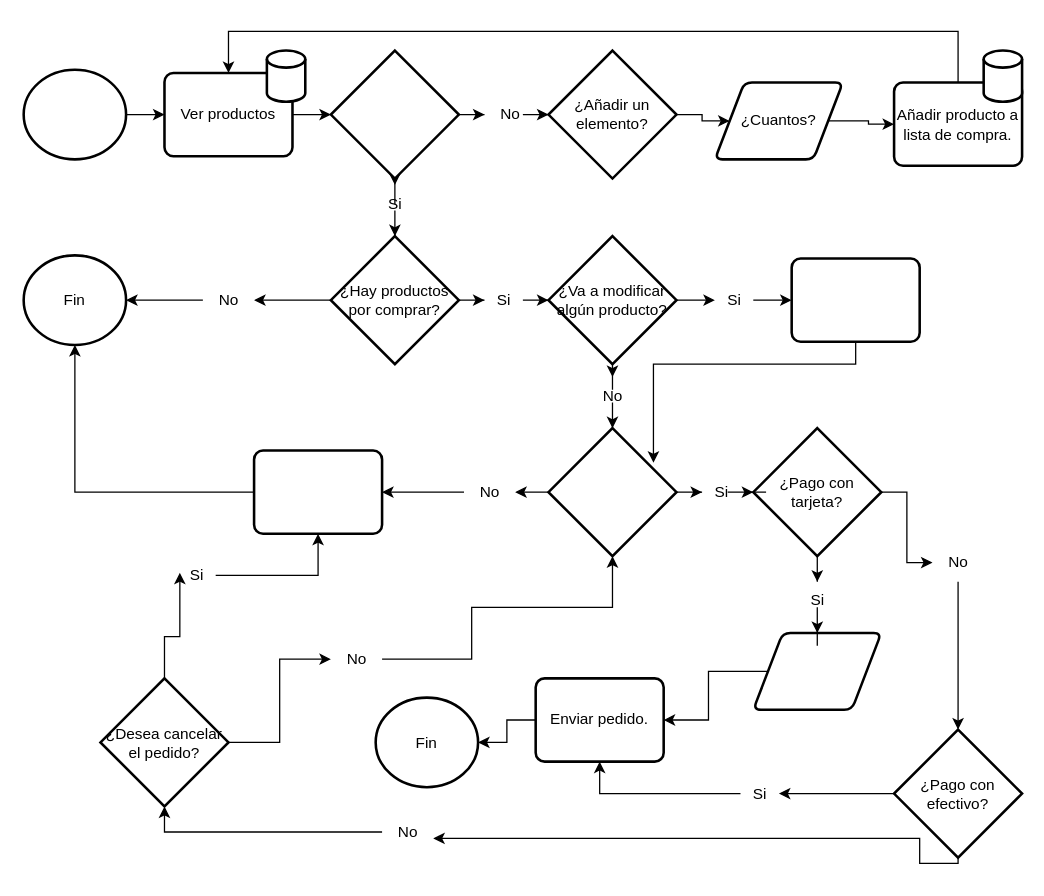
Image size: 1044x896. Some labels were removed from this diagram. The shapes that lost their labels are listed below. From the top down, each one's box as (x1, y1, x2, y2) in pixels, then its label:
(22, 68, 127, 160): Inicio
(329, 49, 460, 179): ¿Terminó?
(790, 257, 920, 342): Modificar lista de compra.
(252, 449, 383, 534): Eliminar pedido.
(547, 426, 677, 557): ¿Va a comprar?
(751, 631, 882, 710): Datos de la tarjeta
